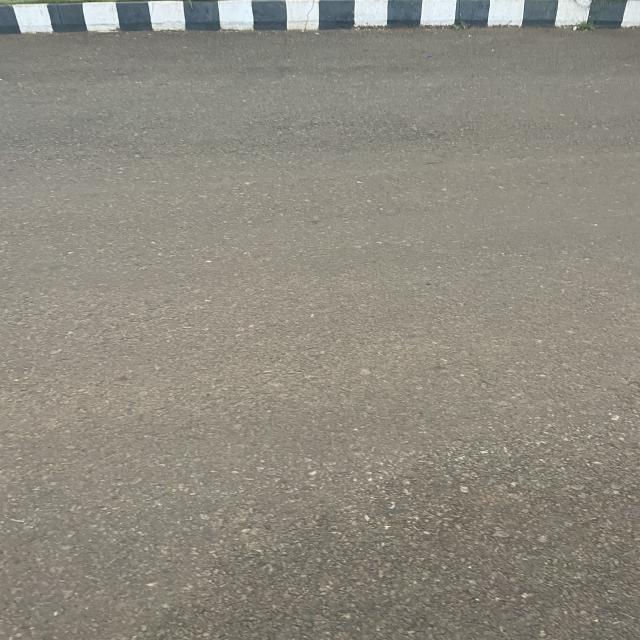D43: (208, 482, 638, 610)
